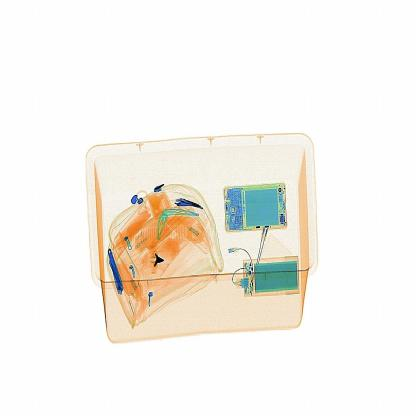gun: (144, 245, 166, 280)
